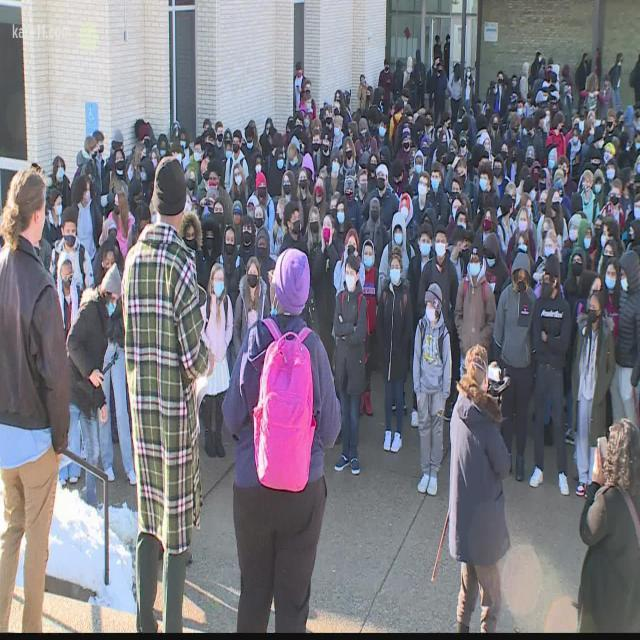Backpacks: (253, 330, 316, 492)
